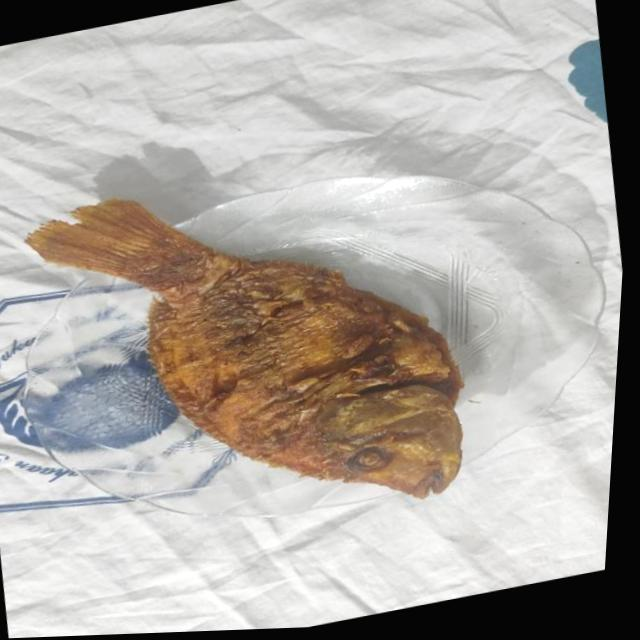ikan_mujair: (26, 200, 463, 498)
